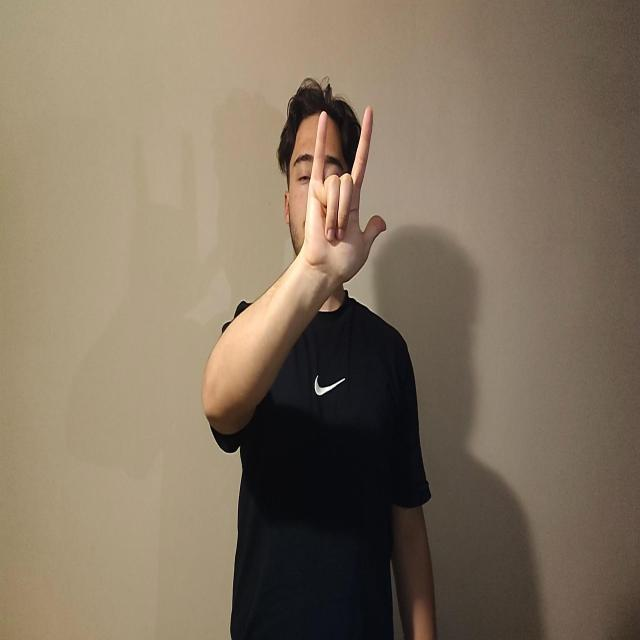iloveyou: (301, 104, 387, 291)
